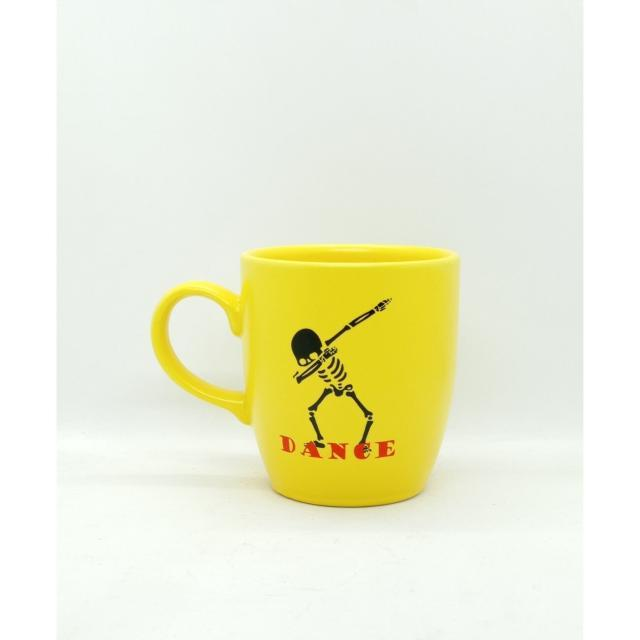Coffee Mug: (149, 242, 462, 511)
